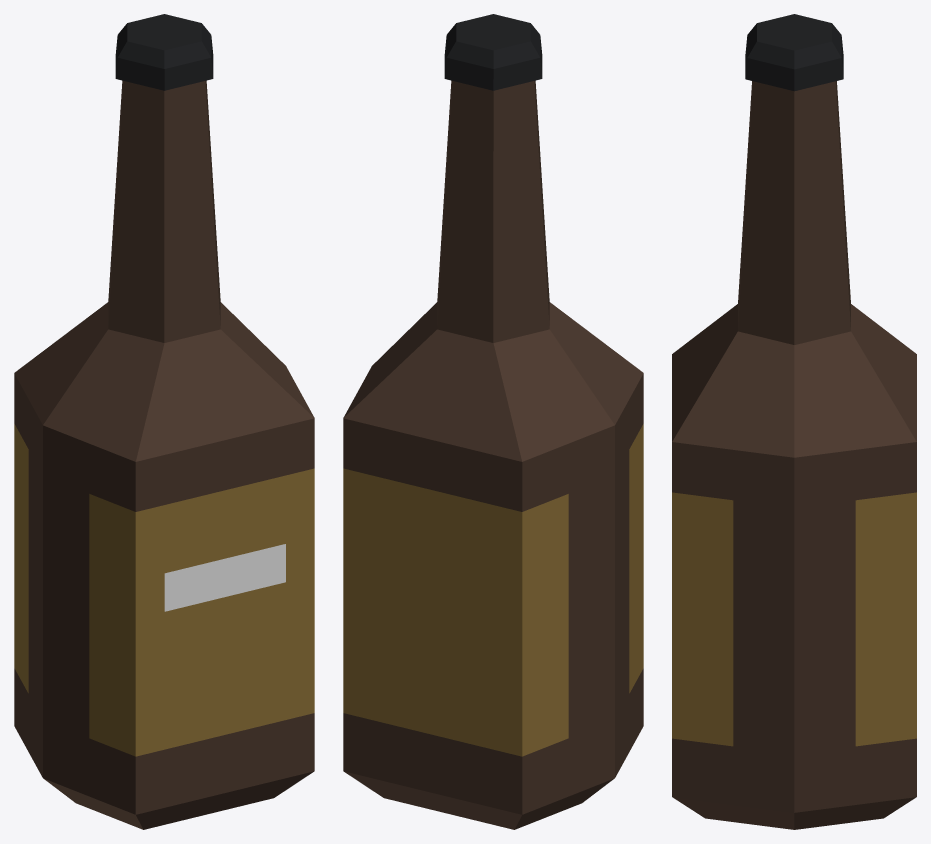
The model's file is SM_Item_Alcohol_03.fbx.
The picture shows the model from 3 angles, left to right: view 1: azimuth 30°, elevation 25°; view 2: azimuth 150°, elevation 25°; view 3: azimuth 270°, elevation 25°; orthographic projection.
Visible parts, largest first — view 1: SM_Item_Alcohol_03; view 2: SM_Item_Alcohol_03; view 3: SM_Item_Alcohol_03.
Part boxes in pixels (x1=…): SM_Item_Alcohol_03: x1=14, y1=14, x2=314, y2=829; SM_Item_Alcohol_03: x1=343, y1=14, x2=643, y2=829; SM_Item_Alcohol_03: x1=672, y1=14, x2=916, y2=829.
Bounding box in the file's own units: 13.48 × 39.69 × 11.67.
